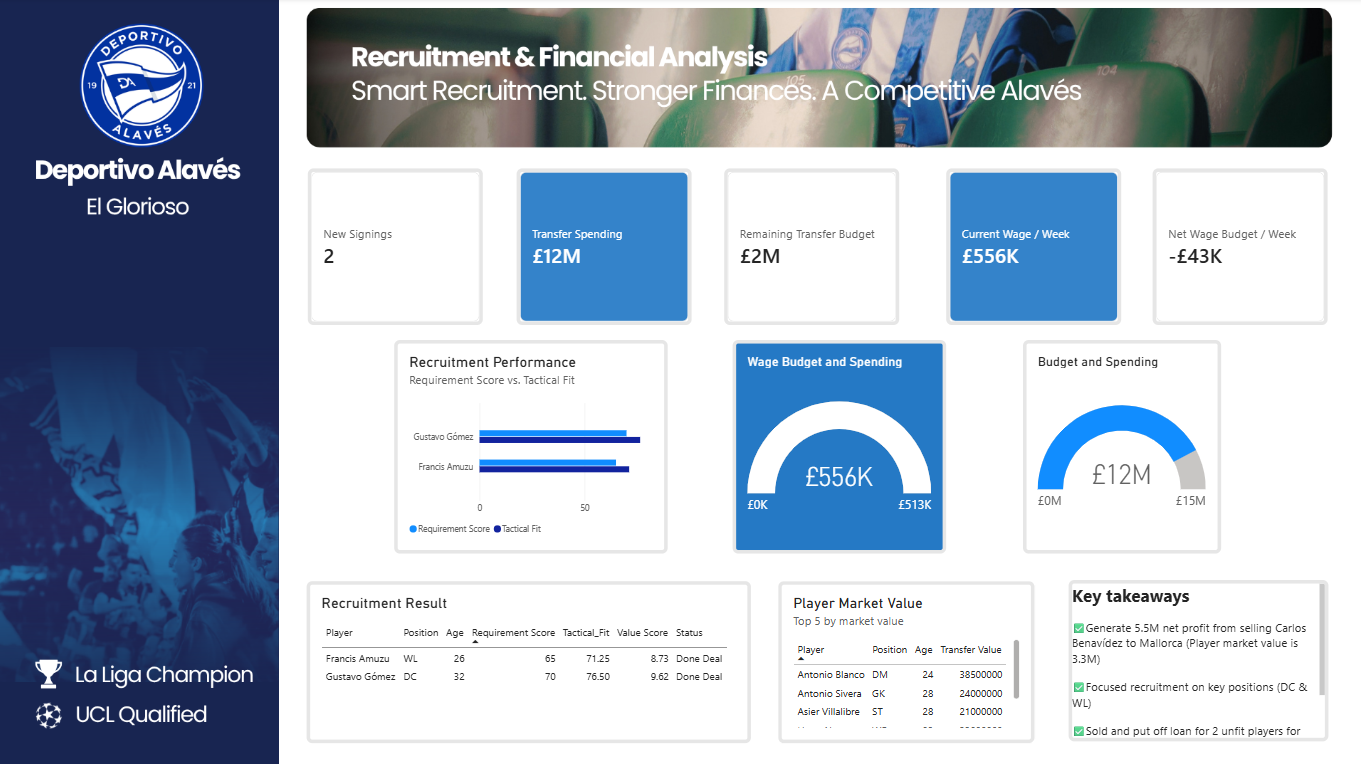

What the dashboard file says about the page in this screenshot:
{"tool":"powerbi","page":{"name":"Recruitment & Financial Analysis","canvas":[1920,1080],"ordinal":2},"visuals":[{"type":"image","box":[0,0,1920,1080],"z":0},{"type":"cardVisual","fields":{"Data":["PBI_Financials.New Signings"]},"box":[436,240,246,220],"z":1000},{"type":"cardVisual","fields":{"Data":["Sum(PBI_Financials.Transfer_Spending)"]},"box":[730,240,246,220],"z":2000},{"type":"cardVisual","fields":{"Data":["Sum(PBI_Financials.Remaining_Transfer_Budget)"]},"box":[1022,240,246,220],"z":3000},{"type":"cardVisual","fields":{"Data":["Sum(PBI_Financials.Current_Wage_Total_Week)"]},"box":[1334,240,246,220],"z":4000},{"type":"cardVisual","fields":{"Data":["Sum(PBI_Financials.Remaining_Wage_Budget_Week)"]},"box":[1624,240,246,220],"z":5000},{"type":"clusteredBarChart","title":"Recruitment Performance","fields":{"Category":["PBI_Recruitment.Player"],"Y":["Sum(PBI_Recruitment.Requirement_Score)","Sum(PBI_Recruitment.Tactical_Fit)"]},"box":[558.3,480,384,300],"z":6000},{"type":"tableEx","title":"Recruitment Result","fields":{"Values":["PBI_Recruitment.Player","PBI_Recruitment.Position","PBI_Recruitment.Age","PBI_Recruitment.Requirement_Score","PBI_Recruitment.Tactical_Fit","PBI_Recruitment.Value_Score_10","PBI_Recruitment.Status"]},"box":[435.7,818.6,624.3,227.1],"z":7000},{"type":"gauge","title":"Budget and Spending","fields":{"MaxValue":["Sum(PBI_Financials.Transfer_Budget)"],"Y":["Sum(PBI_Financials.Transfer_Spending)"]},"box":[1441.7,480,278,300],"z":8000},{"type":"gauge","title":"Wage Budget and Spending","fields":{"MaxValue":["Sum(PBI_Financials.Wage_Budget_Week)"],"Y":["Sum(PBI_Financials.Current_Wage_Total_Week)"]},"box":[1033.3,480,300,300],"z":9000},{"type":"tableEx","title":"Player Market Value","fields":{"Values":["PBI_Players.Player","PBI_Players.Position","PBI_Players.Age","Sum(PBI_Players.Transfer_Value)"]},"box":[1097.1,818.6,360,227.1],"z":10000},{"type":"textbox","box":[1505,818.3,365,226.7],"z":10001}]}

Visuals, with their boxes in screenshot pixels (x1, y1, x2, y2), scaled from the page's 1920x1080 canvas onto the 1361x764 screenshot:
image: bbox=[0, 0, 1360, 763]
cardVisual - PBI_Financials.New Signings: bbox=[309, 170, 483, 325]
cardVisual - Sum(PBI_Financials.Transfer_Spending): bbox=[517, 170, 692, 325]
cardVisual - Sum(PBI_Financials.Remaining_Transfer_Budget): bbox=[724, 170, 899, 325]
cardVisual - Sum(PBI_Financials.Current_Wage_Total_Week): bbox=[946, 170, 1120, 325]
cardVisual - Sum(PBI_Financials.Remaining_Wage_Budget_Week): bbox=[1151, 170, 1326, 325]
"Recruitment Performance" clusteredBarChart: bbox=[396, 340, 668, 552]
"Recruitment Result" tableEx: bbox=[309, 579, 751, 740]
"Budget and Spending" gauge: bbox=[1022, 340, 1219, 552]
"Wage Budget and Spending" gauge: bbox=[732, 340, 945, 552]
"Player Market Value" tableEx: bbox=[778, 579, 1033, 740]
textbox: bbox=[1067, 579, 1326, 739]
